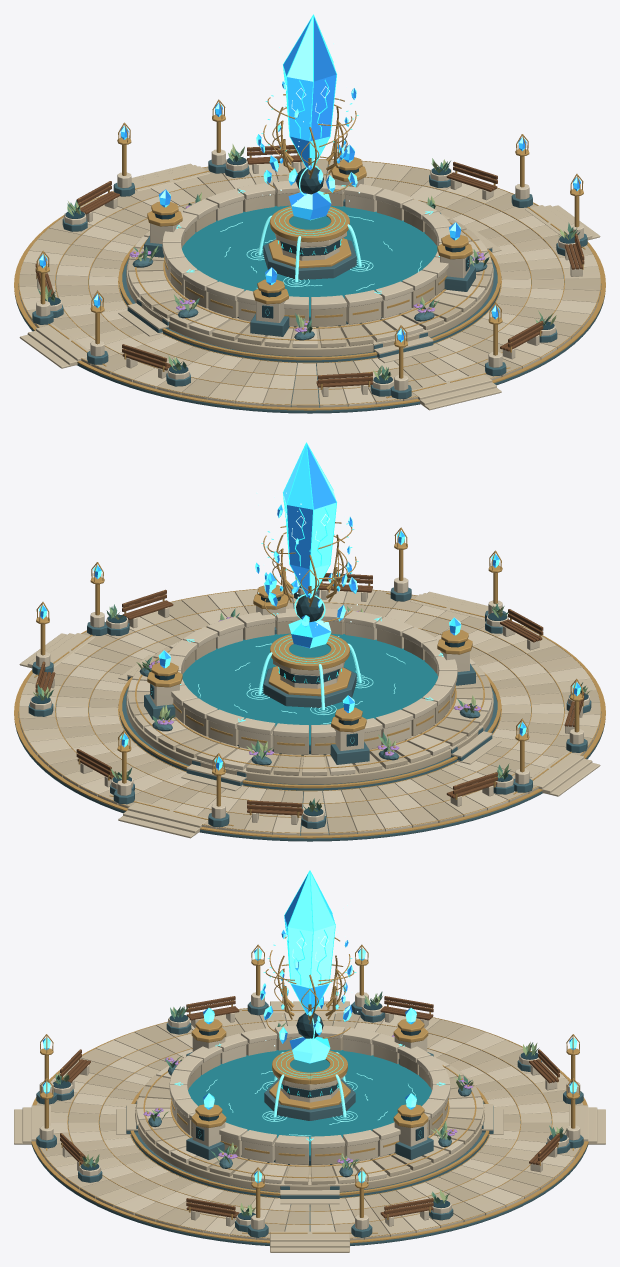
File: Prontera_Grand_Aetherwell.glb
3 views of the same model, one above another, from view 1: azimuth 30°, elevation 25°; view 2: azimuth 150°, elevation 25°; view 3: azimuth 270°, elevation 25° (orthographic). The views are drawn at different scales.
Visible parts, largest first — view 1: Aetherwell • Limestone • 2, Aetherwell • Limestone • 1, Aetherwell • Aged champagne brass, Aetherwell • Limestone • 0, Aetherwell • Limestone • 3, Aetherwell • Water • turquoise, Aetherwell • Midnight teal masonry, AETHER • main floating spire, Aetherwell • Bench • warm walnut, Aetherwell • Recessed enamel, Aetherwell • Crystal inscriptions • electric blue, Aetherwell • Water • light ripples (+5 smaller); view 2: Aetherwell • Limestone • 2, Aetherwell • Limestone • 1, Aetherwell • Aged champagne brass, Aetherwell • Limestone • 0, Aetherwell • Limestone • 3, Aetherwell • Water • turquoise, Aetherwell • Midnight teal masonry, AETHER • main floating spire, Aetherwell • Bench • warm walnut, Aetherwell • Recessed enamel, Aetherwell • Crystal inscriptions • electric blue, Aetherwell • Water • light ripples (+5 smaller); view 3: Aetherwell • Limestone • 2, Aetherwell • Limestone • 1, Aetherwell • Limestone • 0, Aetherwell • Aged champagne brass, Aetherwell • Limestone • 3, Aetherwell • Water • turquoise, Aetherwell • Midnight teal masonry, AETHER • main floating spire, Aetherwell • Bench • warm walnut, Aetherwell • Recessed enamel, Aetherwell • Crystal inscriptions • electric blue, Floating inverted crystal (+5 smaller).
Boxes of the visible parts, box(x1,y1,x2,y2) form: Aetherwell • Limestone • 2: box(21, 149, 598, 406); Aetherwell • Limestone • 1: box(18, 162, 600, 410); Aetherwell • Aged champagne brass: box(14, 94, 605, 410); Aetherwell • Limestone • 0: box(19, 159, 601, 407); Aetherwell • Limestone • 3: box(20, 159, 600, 407); Aetherwell • Water • turquoise: box(182, 205, 437, 317); Aetherwell • Midnight teal masonry: box(15, 159, 604, 413); AETHER • main floating spire: box(283, 17, 336, 168); Aetherwell • Bench • warm walnut: box(35, 145, 584, 387); Aetherwell • Recessed enamel: box(45, 157, 574, 383); Aetherwell • Crystal inscriptions • electric blue: box(261, 14, 358, 254); Aetherwell • Water • light ripples: box(220, 215, 421, 290); Aetherwell • Limestone • 2: box(19, 577, 601, 835); Aetherwell • Limestone • 1: box(19, 589, 600, 838); Aetherwell • Aged champagne brass: box(14, 522, 605, 838); Aetherwell • Limestone • 0: box(19, 588, 599, 835); Aetherwell • Limestone • 3: box(18, 590, 600, 835); Aetherwell • Water • turquoise: box(182, 633, 437, 745); Aetherwell • Midnight teal masonry: box(15, 587, 604, 841); AETHER • main floating spire: box(283, 445, 336, 596); Aetherwell • Bench • warm walnut: box(35, 573, 584, 815); Aetherwell • Recessed enamel: box(31, 584, 588, 816); Aetherwell • Crystal inscriptions • electric blue: box(261, 442, 358, 682); Aetherwell • Water • light ripples: box(198, 643, 405, 723); Aetherwell • Limestone • 2: box(39, 992, 580, 1236); Aetherwell • Limestone • 1: box(14, 1001, 605, 1252); Aetherwell • Limestone • 0: box(36, 1008, 584, 1240); Aetherwell • Aged champagne brass: box(31, 937, 588, 1243); Aetherwell • Limestone • 3: box(35, 1013, 583, 1240); Aetherwell • Water • turquoise: box(188, 1049, 431, 1156); Aetherwell • Midnight teal masonry: box(31, 1001, 588, 1245); AETHER • main floating spire: box(284, 872, 335, 1014); Aetherwell • Bench • warm walnut: box(60, 996, 559, 1218); Aetherwell • Recessed enamel: box(53, 1002, 567, 1219); Aetherwell • Crystal inscriptions • electric blue: box(263, 870, 356, 1096); Floating inverted crystal: box(289, 1036, 330, 1063).
Bounding box in the file's own units: 29.68 × 14.39 × 29.68.
